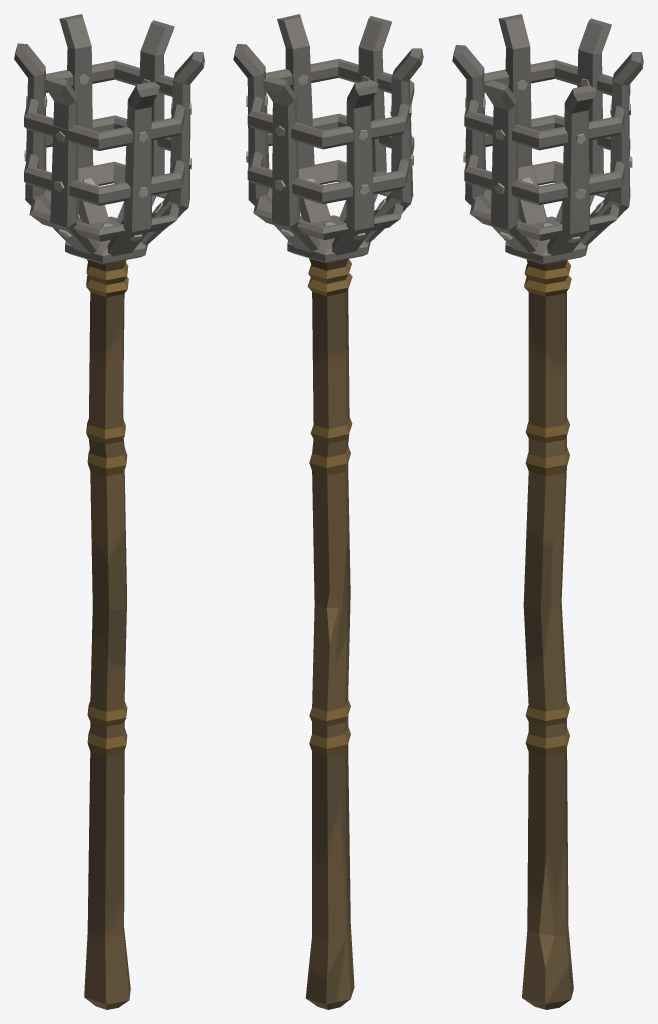
Rendered from SM_Prop_Torch_02.fbx.
The picture shows the model from 3 angles, left to right: view 1: azimuth 30°, elevation 25°; view 2: azimuth 150°, elevation 25°; view 3: azimuth 270°, elevation 25°; orthographic projection.
Parts seen in each view (by area): view 1: SM_Prop_Torch_02; view 2: SM_Prop_Torch_02; view 3: SM_Prop_Torch_02.
Part boxes in pixels (<box>): SM_Prop_Torch_02: <box>14,14,204,1009</box>; SM_Prop_Torch_02: <box>233,14,423,1009</box>; SM_Prop_Torch_02: <box>452,14,643,1009</box>.
Bounding box in the file's own units: 26.46 × 151 × 27.44.
